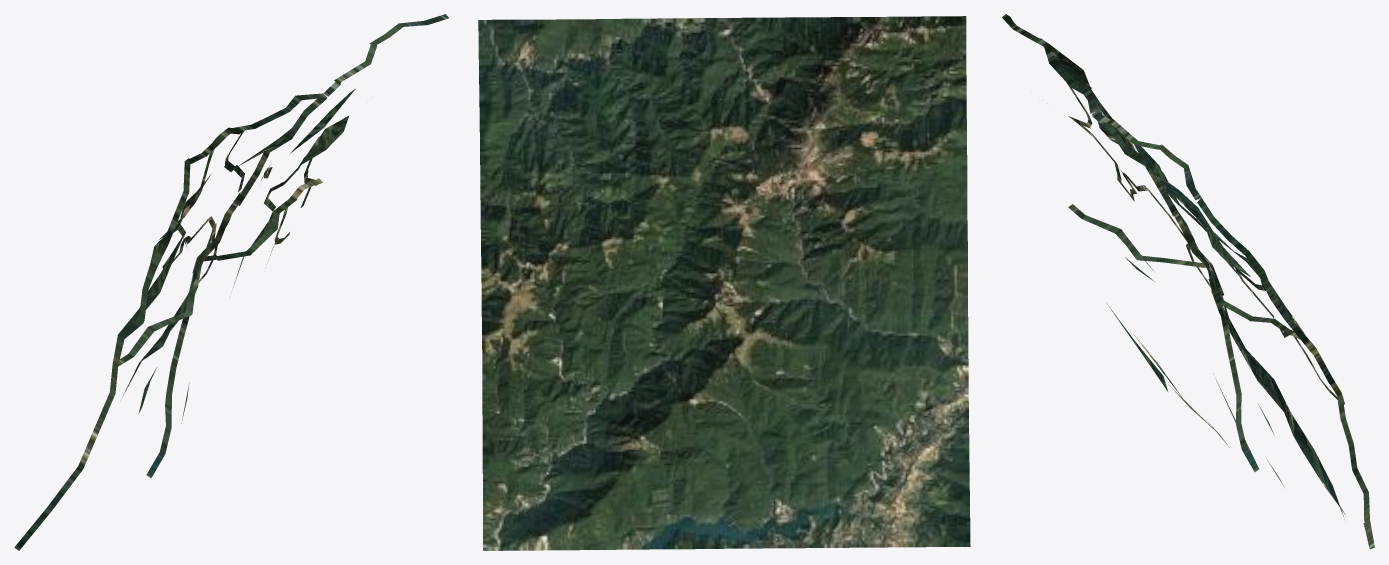
The picture shows the model from 3 angles, left to right: view 1: azimuth 30°, elevation 25°; view 2: azimuth 150°, elevation 25°; view 3: azimuth 270°, elevation 25°; orthographic projection. The views are drawn at different scales.
Bounding box in the file's own units: 20185 × 18646 × 15262.
Materials: 1 (1 with a texture image).
